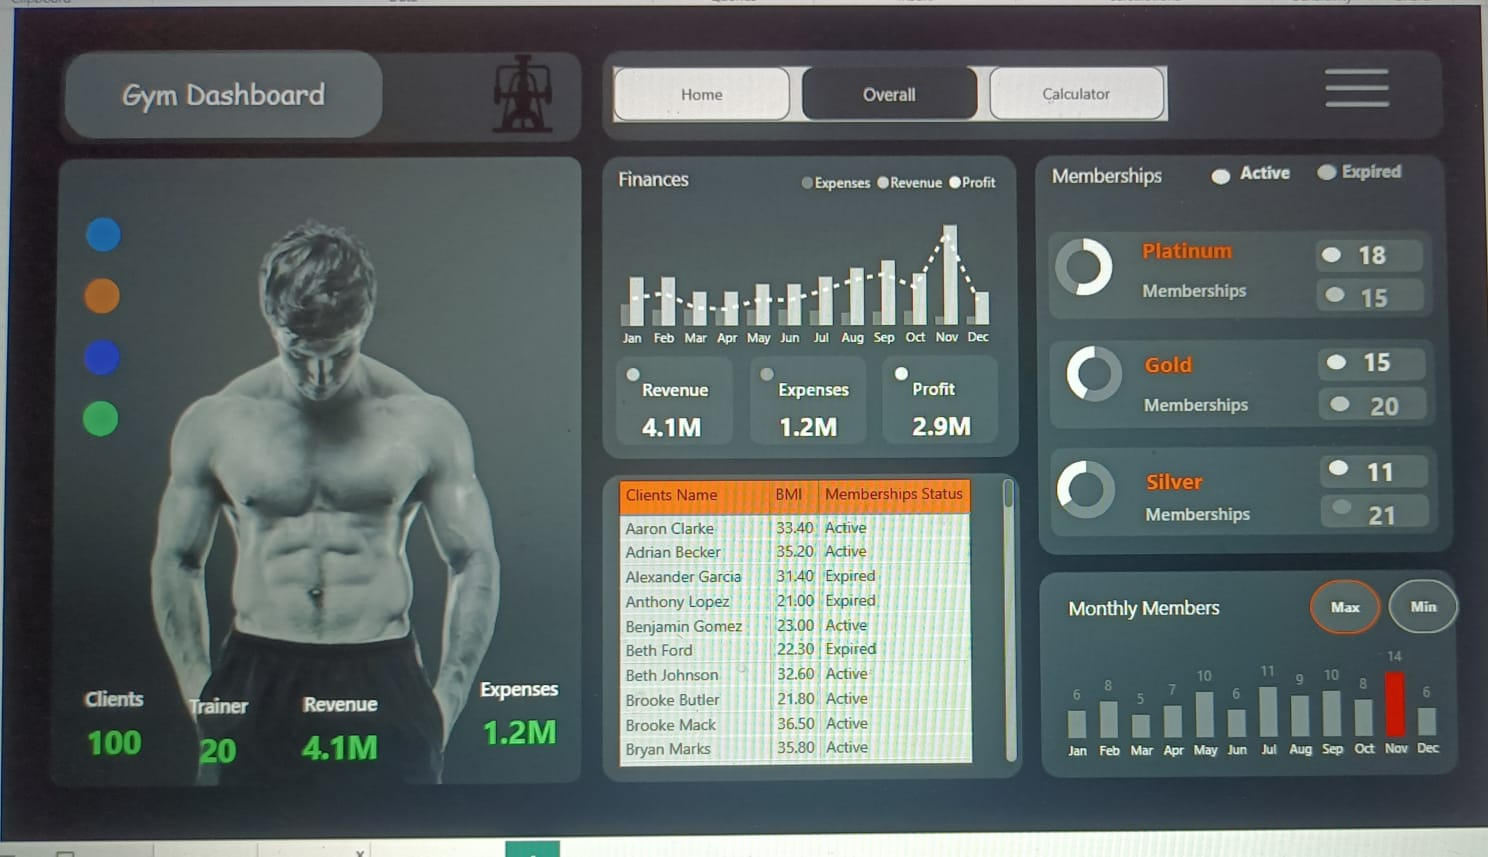

The dashboard page shown, as its layout file describes it:
{"tool":"powerbi","page":{"name":"Overall","canvas":[1280,720],"ordinal":1},"visuals":[{"type":"cardVisual","fields":{"Data":["Measure_Table.Users_Count"]},"box":[45.3,557.1,100.2,120.8],"z":0},{"type":"cardVisual","fields":{"Data":["Count(Users.Trainer Name)"]},"box":[133.9,571.9,100.1,106.2],"z":1000},{"type":"cardVisual","fields":{"Data":["Measure_Table.Revenue"]},"box":[237.7,569.4,100.1,108.6],"z":2000},{"type":"cardVisual","fields":{"Data":["Measure_Table.Expenses"]},"box":[384.2,559.9,111.1,105.7],"z":3000},{"type":"cardVisual","fields":{"Data":["Measure_Table.Revenue"]},"box":[526.9,308.7,100.2,79.6],"z":4000},{"type":"cardVisual","fields":{"Data":["Measure_Table.Expenses"]},"box":[643.7,308.7,100,80],"z":5000},{"type":"cardVisual","fields":{"Data":["Measure_Table.Profit"]},"box":[760.2,308.7,100,80],"z":6000},{"type":"lineClusteredColumnComboChart","fields":{"Y":["Measure_Table.Expenses","Measure_Table.Revenue"],"Y2":["Measure_Table.Profit"],"Category":["Calendar.Month"]},"box":[510.5,137.2,349.9,171.5],"z":7000},{"type":"shape","box":[495.4,137.2,116.6,49.4],"z":8000},{"type":"clusteredColumnChart","fields":{"Y":["Measure_Table.Users_Count"],"Category":["Calendar.Month"]},"box":[892.8,551.3,348.7,114.6],"z":9000},{"type":"shape","box":[974.8,299.2,161.7,49.5],"z":10000},{"type":"advancedSlicerVisual","fields":{"Values":["Min_Max_Switch.Type"]},"box":[1114.1,499.3,139.6,56.4],"z":11000},{"type":"shape","box":[974.8,201.5,103.8,37.4],"z":12000},{"type":"shape","box":[894.3,511.9,161.7,49.5],"z":13000},{"type":"shape","box":[974.8,400.5,161.7,49.5],"z":14000},{"type":"shape","box":[974.8,339,161.7,32.6],"z":15000},{"type":"shape","box":[974.8,238.9,161.7,33.8],"z":16000},{"type":"shape","box":[974.8,433.1,161.7,33.8],"z":17000},{"type":"donutChart","fields":{"Y":["Measure_Table.User_Sliver"],"Category":["Users.Status"]},"box":[860.2,388.5,132.7,72.4],"z":18000},{"type":"donutChart","fields":{"Y":["Measure_Table.User_Platinum"],"Category":["Users.Status"]},"box":[860.2,195.4,132.7,72],"z":19000},{"type":"donutChart","fields":{"Y":["Measure_Table.User_Gold"],"Category":["Users.Status"]},"box":[860.2,289.5,149.6,70],"z":20000},{"type":"card","fields":{"Values":["Measure_Table.Platinum_Active"]},"box":[1123.2,201.5,109.8,43.4],"z":21000},{"type":"card","fields":{"Values":["Measure_Table.Platinum_Expire"]},"box":[1124.4,238.9,109.8,43.4],"z":22000},{"type":"card","fields":{"Values":["Measure_Table.Gold_Active"]},"box":[1125.6,295.6,109.8,43.4],"z":23000},{"type":"card","fields":{"Values":["Measure_Table.Gold_Expire"]},"box":[1131.6,334.2,109.8,43.4],"z":24000},{"type":"card","fields":{"Values":["Measure_Table.Silver_Active"]},"box":[1126.8,391.3,109.8,43.4],"z":25000},{"type":"card","fields":{"Values":["Measure_Table.Silver_Expire"]},"box":[1128,428.7,109.8,43.4],"z":26000},{"type":"shape","box":[1134.1,214.7,16.9,13.3],"z":27000},{"type":"shape","box":[1136.5,249.7,16.9,13.3],"z":28000},{"type":"shape","box":[1136.5,308.8,16.9,13.3],"z":29000},{"type":"shape","box":[1139.4,345.3,16.9,13.3],"z":30000},{"type":"shape","box":[1136.5,400.5,16.9,13.3],"z":31000},{"type":"shape","box":[1138.9,434.3,16.9,13.3],"z":32000},{"type":"shape","box":[892.8,137.5,109.8,35],"z":33000},{"type":"shape","box":[1038.7,146,16.9,13.3],"z":34000},{"type":"shape","box":[1131.6,142.4,16.9,13.3],"z":35000},{"type":"shape","box":[1061.7,136.3,103.8,37.4],"z":36000},{"type":"shape","box":[1150.9,135.1,103.8,37.4],"z":37000},{"type":"image","box":[1101.5,36.2,136.3,79.6],"z":38000},{"type":"tableEx","fields":{"Values":["Users.UserName","Users.BMI","Users.Status"]},"box":[518.8,410.2,349.9,252.1],"z":39000},{"type":"shape","box":[45.8,38.6,273.9,77.2],"z":40000},{"type":"image","box":[354.7,38.6,172.5,78.4],"z":41000},{"type":"pageNavigator","box":[518.8,54.3,483.8,49.5],"z":42000},{"type":"advancedSlicerVisual","fields":{"Values":["ColorCodes.Icon"]},"box":[54.3,172.5,54.3,216],"z":42001}]}

Visuals, with their boxes on the page's 1280x720 design canvas (x1, y1, x2, y2). These are canvas units, not pixel positions in the 1488x857 screenshot, which may show the page scaled, cropped or inside an application window:
cardVisual - Measure_Table.Users_Count: x1=45 y1=557 x2=146 y2=678
cardVisual - Count(Users.Trainer Name): x1=134 y1=572 x2=234 y2=678
cardVisual - Measure_Table.Revenue: x1=238 y1=569 x2=338 y2=678
cardVisual - Measure_Table.Expenses: x1=384 y1=560 x2=495 y2=666
cardVisual - Measure_Table.Revenue: x1=527 y1=309 x2=627 y2=388
cardVisual - Measure_Table.Expenses: x1=644 y1=309 x2=744 y2=389
cardVisual - Measure_Table.Profit: x1=760 y1=309 x2=860 y2=389
lineClusteredColumnComboChart - Measure_Table.Expenses x Measure_Table.Revenue: x1=510 y1=137 x2=860 y2=309
shape: x1=495 y1=137 x2=612 y2=187
clusteredColumnChart - Measure_Table.Users_Count x Calendar.Month: x1=893 y1=551 x2=1242 y2=666
shape: x1=975 y1=299 x2=1136 y2=349
advancedSlicerVisual - Min_Max_Switch.Type: x1=1114 y1=499 x2=1254 y2=556
shape: x1=975 y1=202 x2=1079 y2=239
shape: x1=894 y1=512 x2=1056 y2=561
shape: x1=975 y1=400 x2=1136 y2=450
shape: x1=975 y1=339 x2=1136 y2=372
shape: x1=975 y1=239 x2=1136 y2=273
shape: x1=975 y1=433 x2=1136 y2=467
donutChart - Measure_Table.User_Sliver x Users.Status: x1=860 y1=388 x2=993 y2=461
donutChart - Measure_Table.User_Platinum x Users.Status: x1=860 y1=195 x2=993 y2=267
donutChart - Measure_Table.User_Gold x Users.Status: x1=860 y1=290 x2=1010 y2=360
card - Measure_Table.Platinum_Active: x1=1123 y1=202 x2=1233 y2=245
card - Measure_Table.Platinum_Expire: x1=1124 y1=239 x2=1234 y2=282
card - Measure_Table.Gold_Active: x1=1126 y1=296 x2=1235 y2=339
card - Measure_Table.Gold_Expire: x1=1132 y1=334 x2=1241 y2=378
card - Measure_Table.Silver_Active: x1=1127 y1=391 x2=1237 y2=435
card - Measure_Table.Silver_Expire: x1=1128 y1=429 x2=1238 y2=472
shape: x1=1134 y1=215 x2=1151 y2=228
shape: x1=1136 y1=250 x2=1153 y2=263
shape: x1=1136 y1=309 x2=1153 y2=322
shape: x1=1139 y1=345 x2=1156 y2=359
shape: x1=1136 y1=400 x2=1153 y2=414
shape: x1=1139 y1=434 x2=1156 y2=448
shape: x1=893 y1=138 x2=1003 y2=172
shape: x1=1039 y1=146 x2=1056 y2=159
shape: x1=1132 y1=142 x2=1148 y2=156
shape: x1=1062 y1=136 x2=1166 y2=174
shape: x1=1151 y1=135 x2=1255 y2=172
image: x1=1102 y1=36 x2=1238 y2=116
tableEx - Users.UserName x Users.BMI: x1=519 y1=410 x2=869 y2=662
shape: x1=46 y1=39 x2=320 y2=116
image: x1=355 y1=39 x2=527 y2=117
pageNavigator: x1=519 y1=54 x2=1003 y2=104
advancedSlicerVisual - ColorCodes.Icon: x1=54 y1=172 x2=109 y2=388
